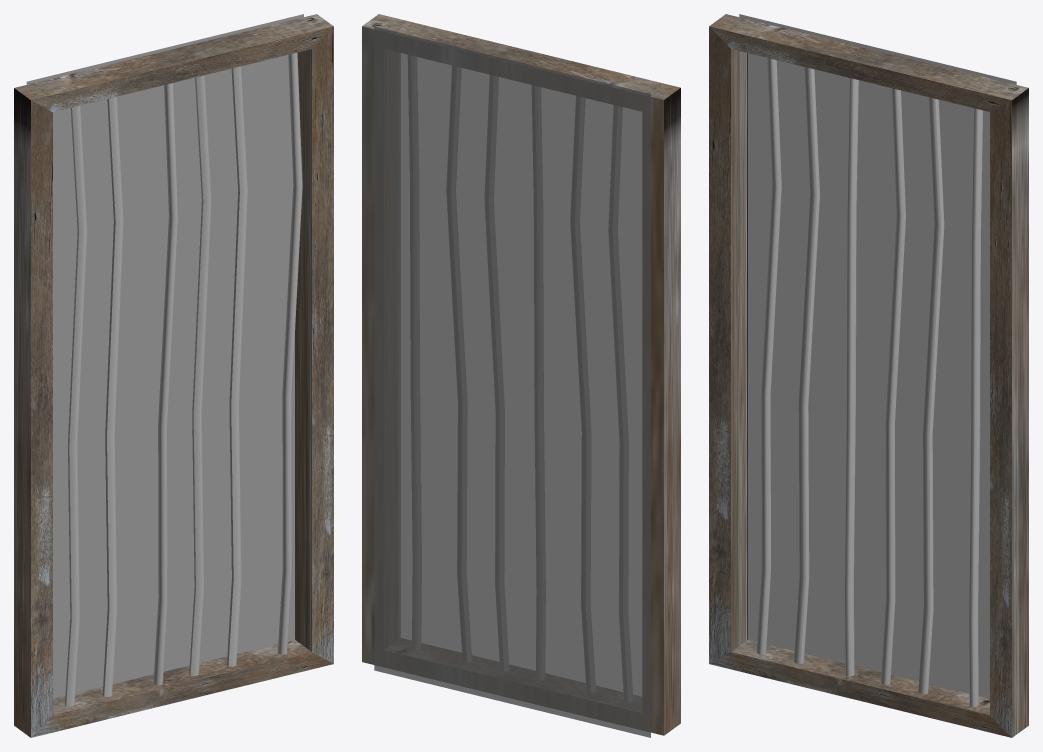
Rendered from VENTANA_SIMPLE.fbx.
3 renders of one model, left to right at view 1: azimuth 30°, elevation 25°; view 2: azimuth 150°, elevation 25°; view 3: azimuth 330°, elevation 25°, orthographic.
Visible parts, largest first — view 1: marco_cavilas; view 2: marco_cavilas; view 3: marco_cavilas.
Boxes of the visible parts, left/top/right/bottom form: marco_cavilas: left=14, top=14, right=333, bottom=737; marco_cavilas: left=362, top=14, right=680, bottom=737; marco_cavilas: left=709, top=14, right=1028, bottom=737.
Bounding box in the file's own units: 121 × 246 × 13.64.
